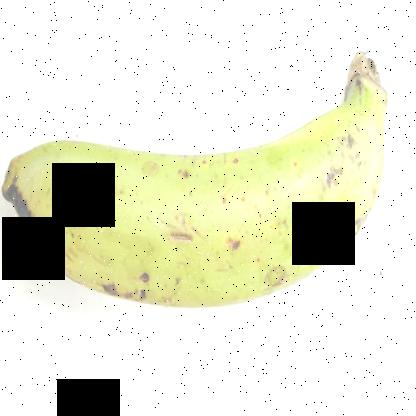unripe: (0, 52, 388, 346)
